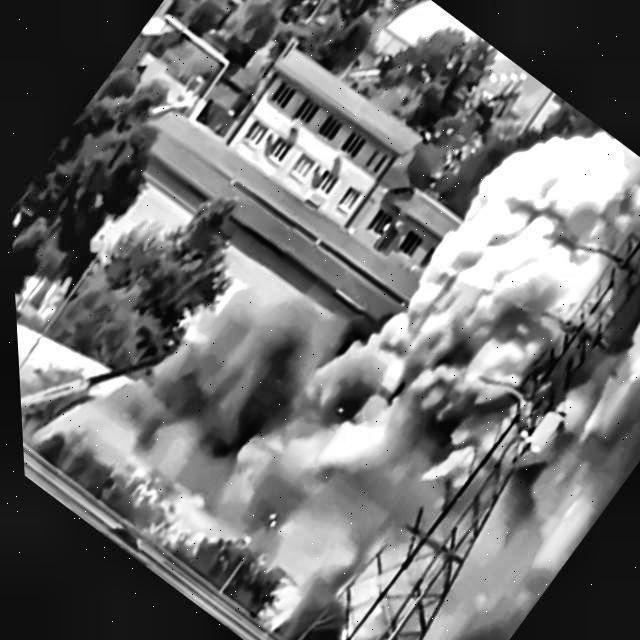Smoke: (172, 71, 640, 640)
